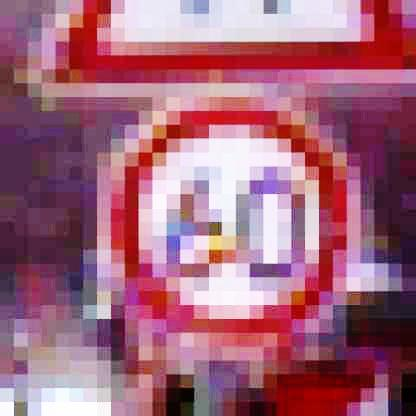Speed Limit -60-: (106, 89, 356, 345)
